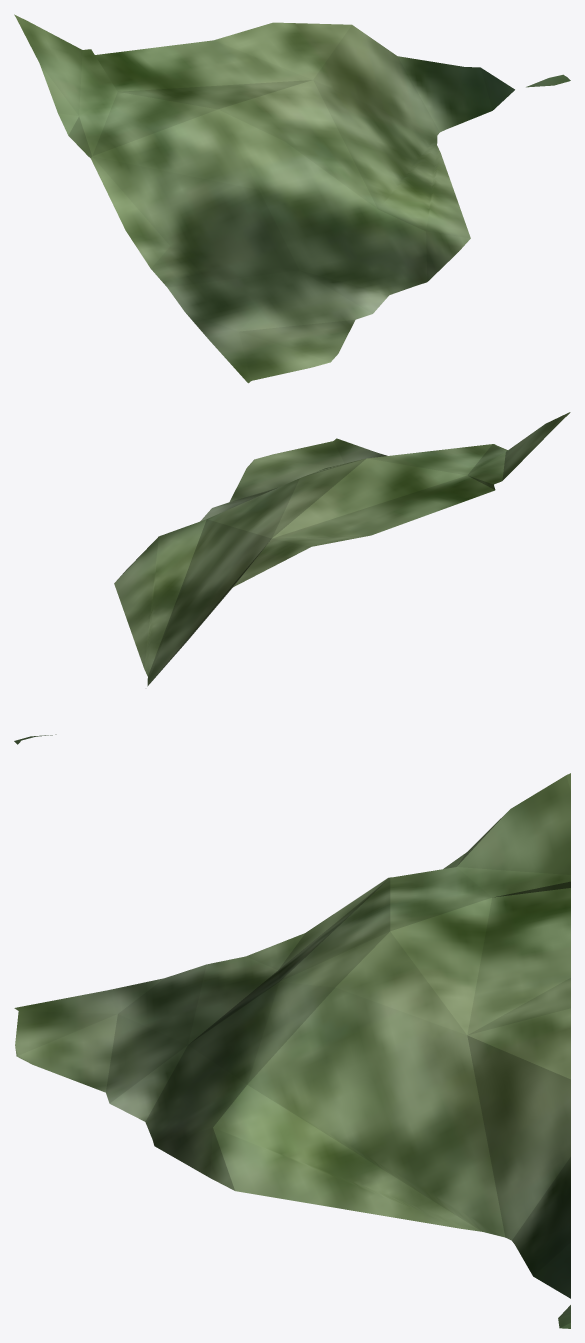
3 renders of one model, top to bottom at view 1: azimuth 30°, elevation 25°; view 2: azimuth 210°, elevation 25°; view 3: azimuth 270°, elevation 25°, orthographic. The views are drawn at different scales.
Bounding box in the file's own units: 1.3 × 0.4431 × 0.9517.
1 material, 1 textured.
